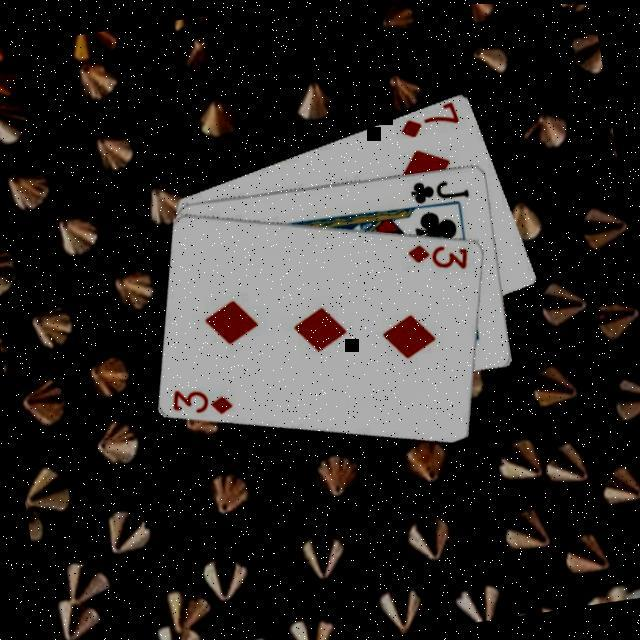3D: (405, 234, 476, 281), (171, 379, 240, 425)
7D: (397, 101, 467, 143)
JC: (408, 171, 475, 209)
